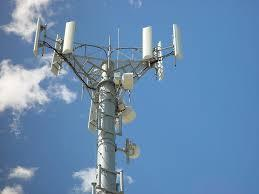Microwave Antenna: (124, 137, 143, 164), (115, 104, 140, 124), (119, 71, 136, 93)
antenna: (169, 22, 186, 59), (61, 19, 76, 58), (31, 18, 45, 56), (139, 25, 153, 61), (155, 41, 165, 83)
